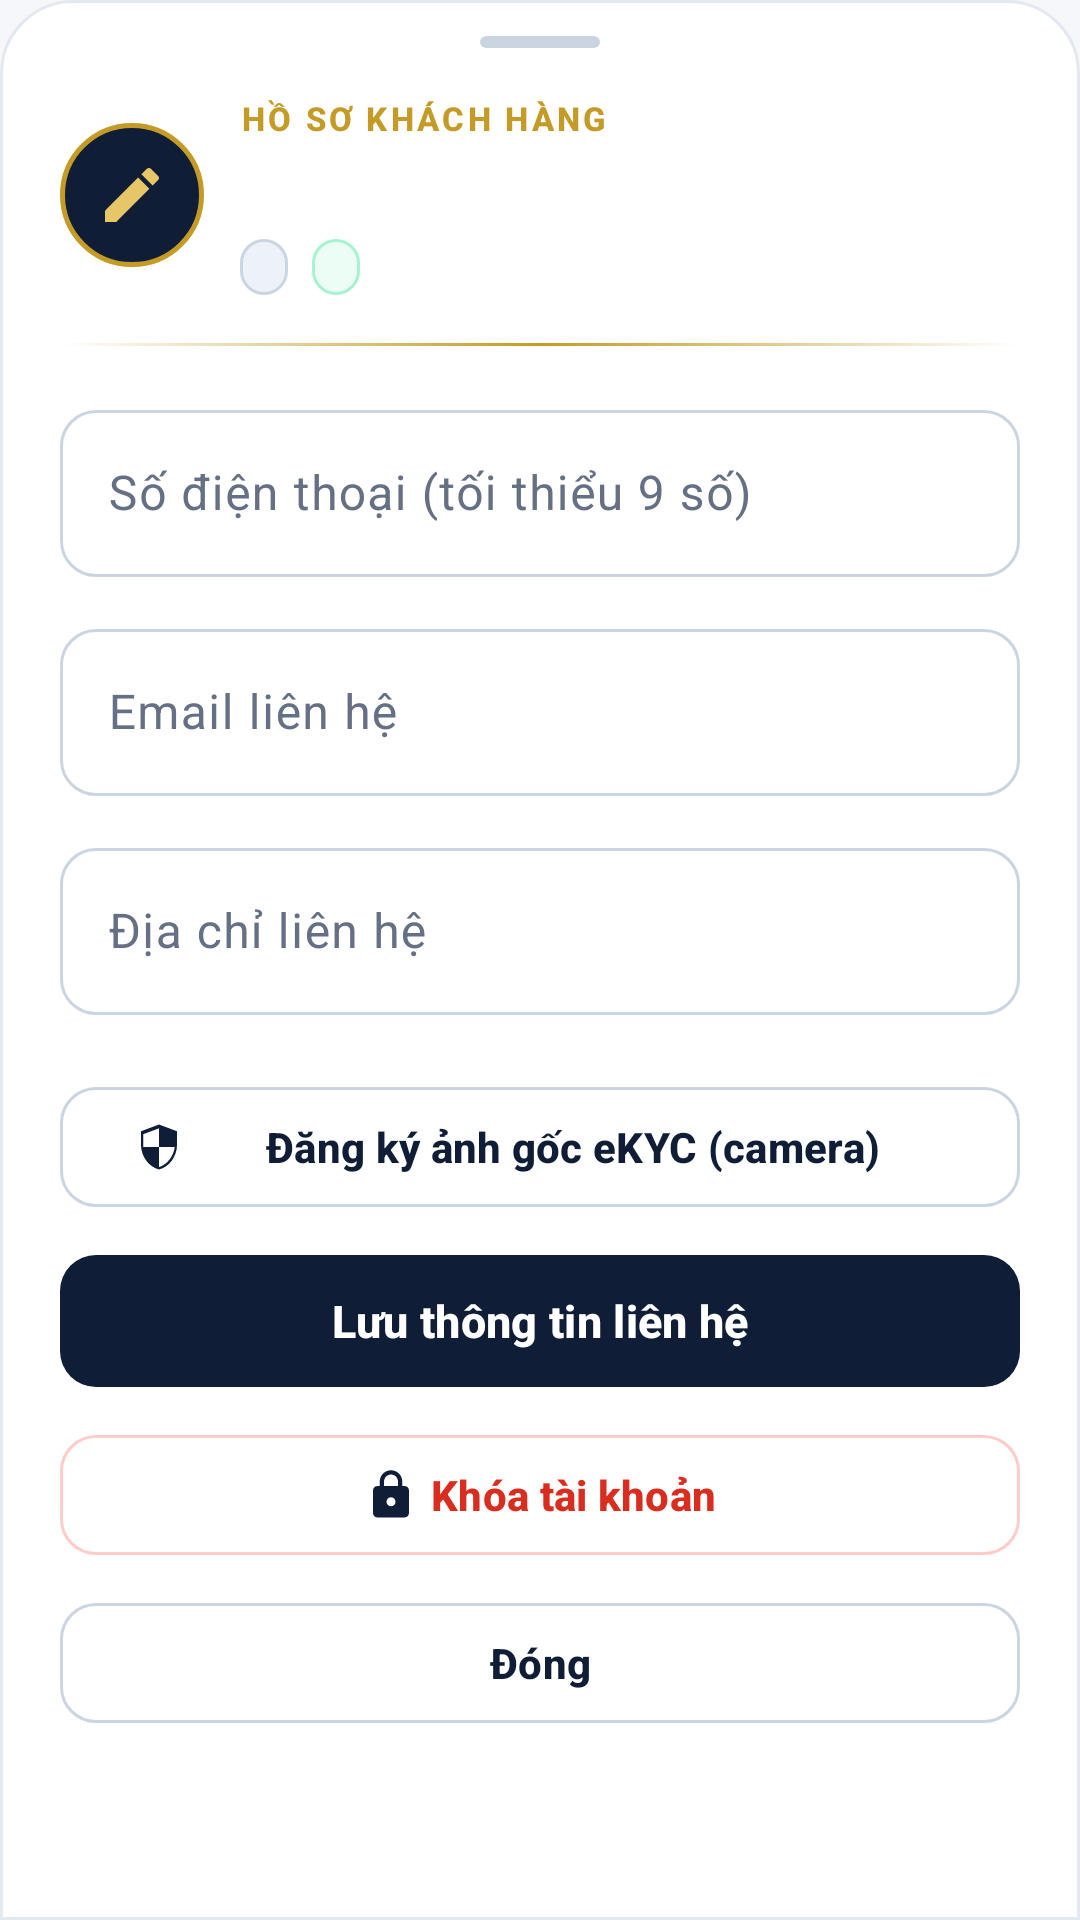

Point at icon controls on the screen. Image size 1080x1920, points as [x,y].
edit: [132,195]
